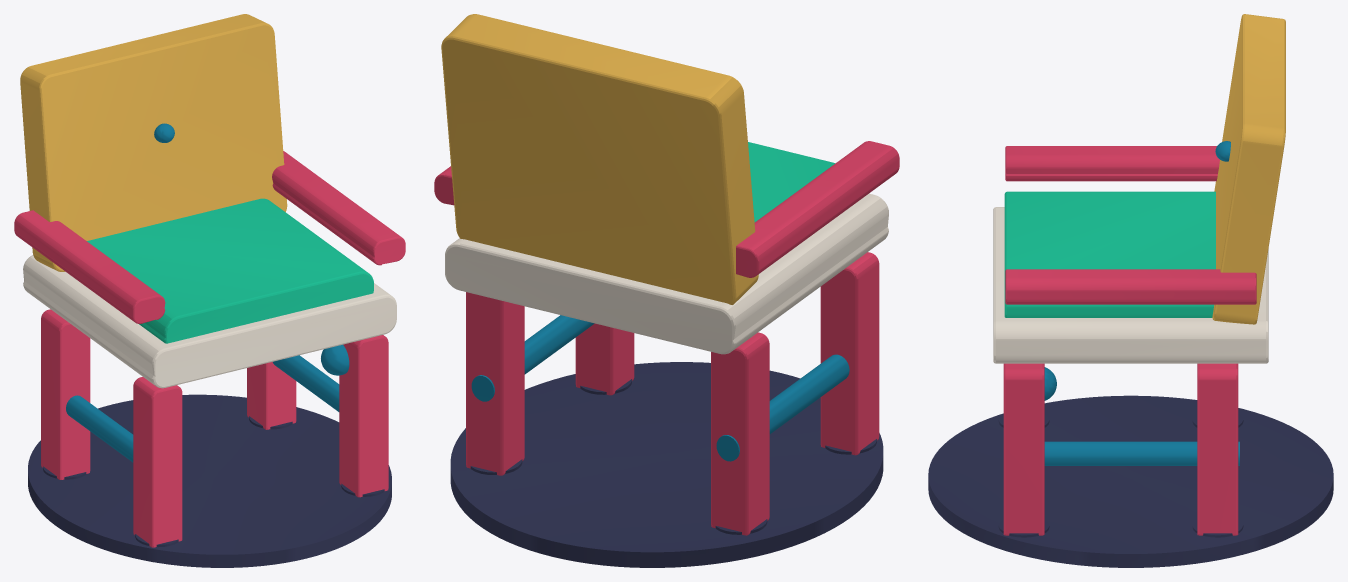
File: 1349_城市运转图鉴_垃圾填埋场.glb
3 views of the same model, side by side, from view 1: azimuth 30°, elevation 25°; view 2: azimuth 150°, elevation 25°; view 3: azimuth 270°, elevation 25° (orthographic). The views are drawn at different scales.
Parts seen in each view (by area): view 1: card_1349; view 2: card_1349; view 3: card_1349.
Part boxes in pixels (box(x1,y1,x2,y2)): card_1349: box(14, 14, 405, 567); card_1349: box(434, 14, 899, 567); card_1349: box(928, 14, 1333, 567).
Bounding box in the file's own units: 0.8054 × 1 × 0.871.
